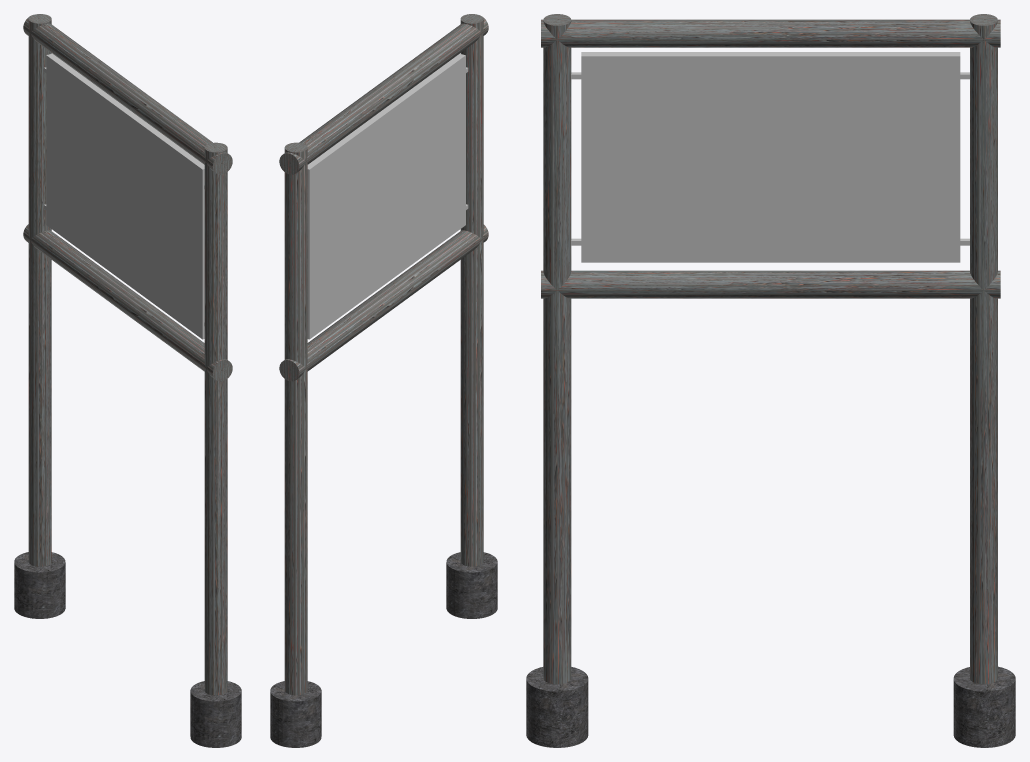
Rendered from Papan Informasi.fbx.
The picture shows the model from 3 angles, left to right: view 1: azimuth 30°, elevation 25°; view 2: azimuth 150°, elevation 25°; view 3: azimuth 270°, elevation 25°; orthographic projection. The views are drawn at different scales.
Visible parts, largest first — view 1: Papan Informasi, Cylinder, Cylinder.001, Cylinder.002, Cylinder.003, Cylinder.004, Cylinder.005; view 2: Papan Informasi, Cylinder.001, Cylinder, Cylinder.002, Cylinder.003, Cylinder.005, Cylinder.004; view 3: Papan Informasi, Cylinder, Cylinder.001, Cylinder.003, Cylinder.002, Cylinder.004, Cylinder.005.
Boxes of the visible parts, x1,y1,x2,y2 form: Papan Informasi: [46, 53, 204, 339]; Cylinder: [204, 142, 227, 695]; Cylinder.001: [28, 14, 51, 566]; Cylinder.002: [23, 15, 232, 174]; Cylinder.003: [23, 224, 232, 381]; Cylinder.004: [190, 681, 241, 747]; Cylinder.005: [14, 552, 65, 618]; Papan Informasi: [307, 53, 465, 339]; Cylinder.001: [284, 142, 307, 695]; Cylinder: [460, 14, 483, 566]; Cylinder.002: [279, 17, 488, 174]; Cylinder.003: [279, 224, 488, 381]; Cylinder.005: [270, 681, 321, 747]; Cylinder.004: [446, 552, 497, 618]; Papan Informasi: [581, 52, 960, 262]; Cylinder: [543, 14, 571, 684]; Cylinder.001: [970, 14, 997, 684]; Cylinder.003: [541, 270, 1000, 298]; Cylinder.002: [541, 19, 1000, 47]; Cylinder.004: [526, 667, 588, 747]; Cylinder.005: [953, 666, 1015, 747].
Size of the model in its own units: 0.1381 by 1.75 by 1.09.
